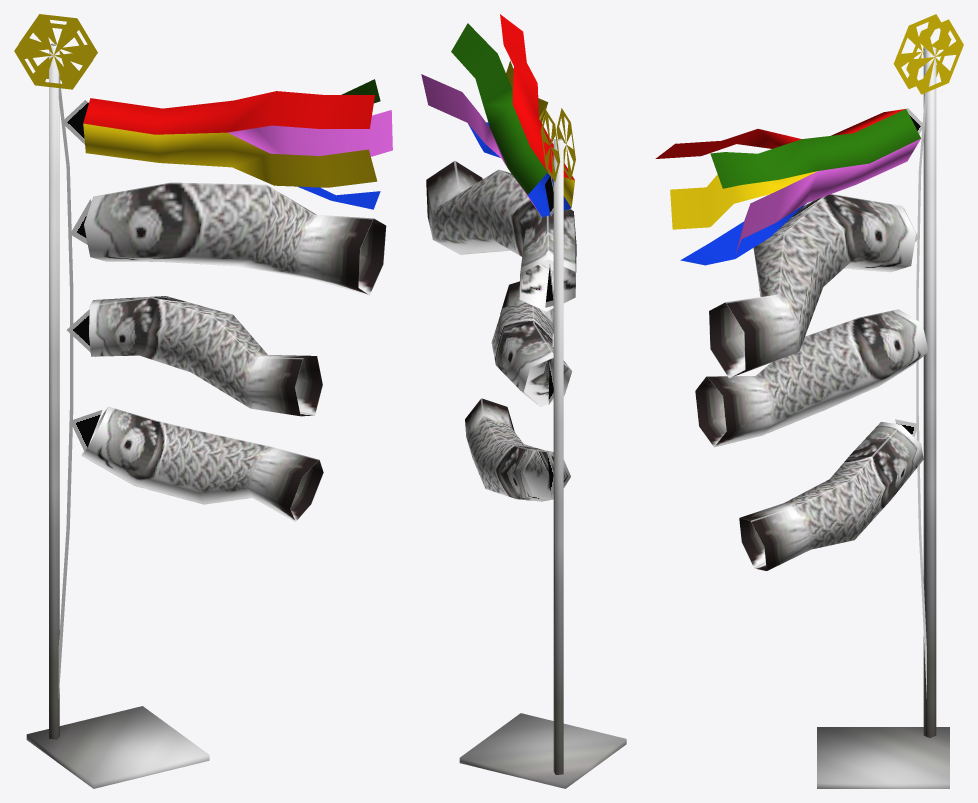
File: int_oth_koinobori.dae
The picture shows the model from 3 angles, left to right: view 1: azimuth 30°, elevation 25°; view 2: azimuth 150°, elevation 25°; view 3: azimuth 270°, elevation 25°; orthographic projection. The views are drawn at different scales.
Parts seen in each view (by area): view 1: int_oth_koinobori; view 2: int_oth_koinobori; view 3: int_oth_koinobori.
Part boxes in pixels (x1=…): int_oth_koinobori: x1=14, y1=14, x2=392, y2=788; int_oth_koinobori: x1=421, y1=14, x2=626, y2=788; int_oth_koinobori: x1=655, y1=14, x2=963, y2=788.
Bounding box in the file's own units: 31.25 × 79 × 30.75.
Materials: 4 (4 with a texture image).
